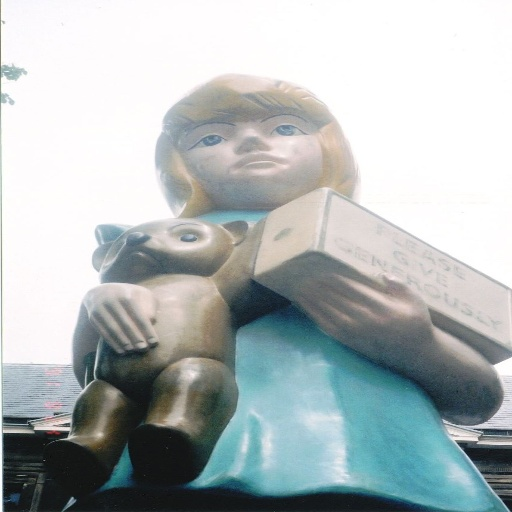hand: (290, 265, 432, 358), (79, 281, 160, 355)
